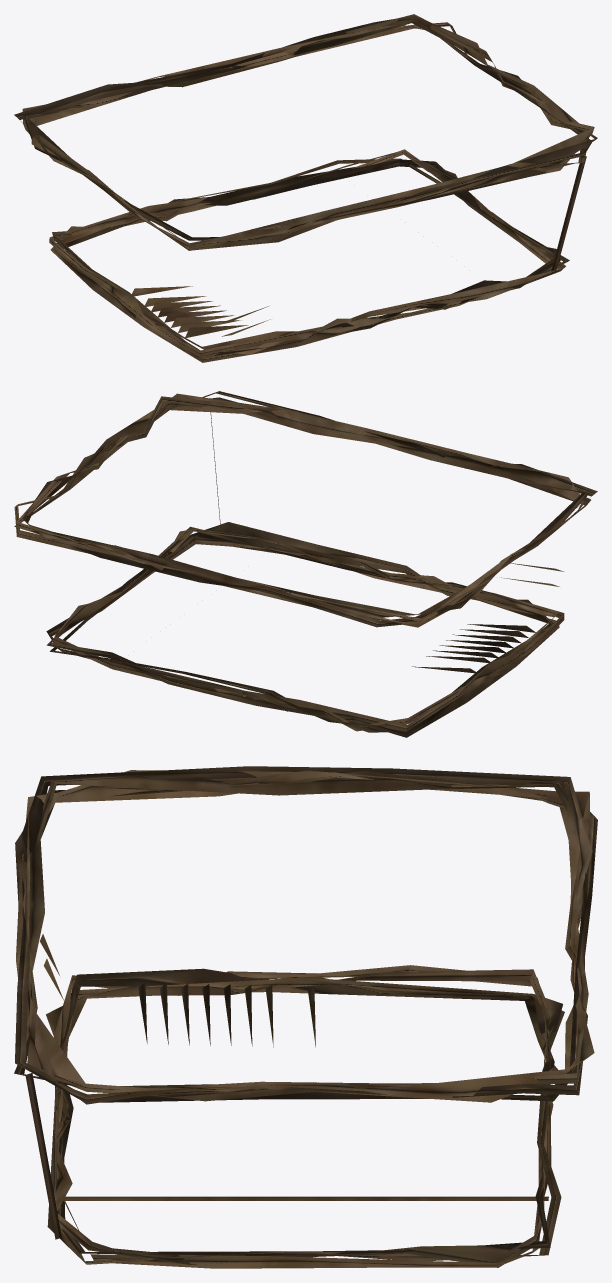
The model's file is wicker_basket_01.glb.
3 renders of one model, top to bottom at view 1: azimuth 30°, elevation 25°; view 2: azimuth 150°, elevation 25°; view 3: azimuth 270°, elevation 25°, orthographic. The views are drawn at different scales.
Visible parts, largest first — view 1: wicker_basket_01; view 2: wicker_basket_01; view 3: wicker_basket_01.
Part boxes in pixels (x1,y1,x2,y2): wicker_basket_01: (14,14,597,362); wicker_basket_01: (14,391,597,737); wicker_basket_01: (14,766,597,1268).
Size of the model in its own units: 0.38 by 0.1167 by 0.2926.
1 material, 1 textured.
